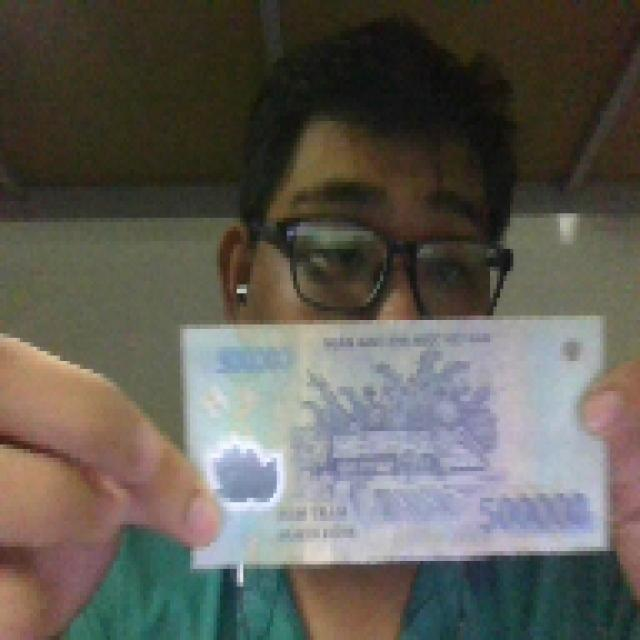500 000 VND: (173, 306, 617, 578)
